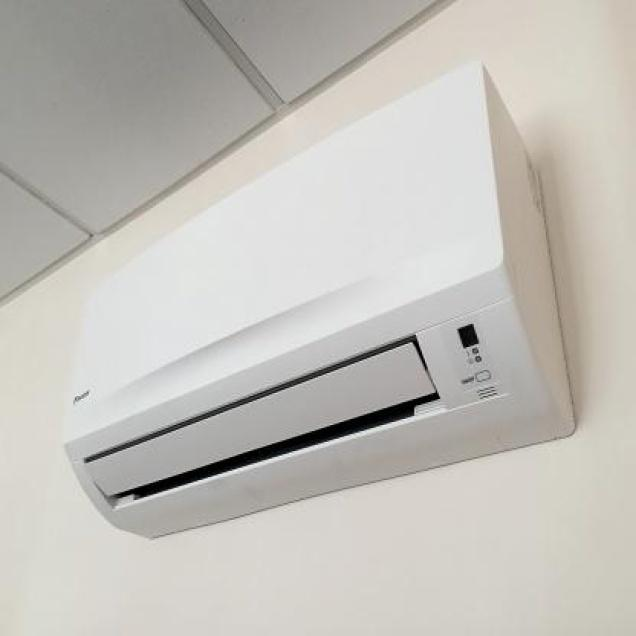AC: (60, 57, 576, 541)
